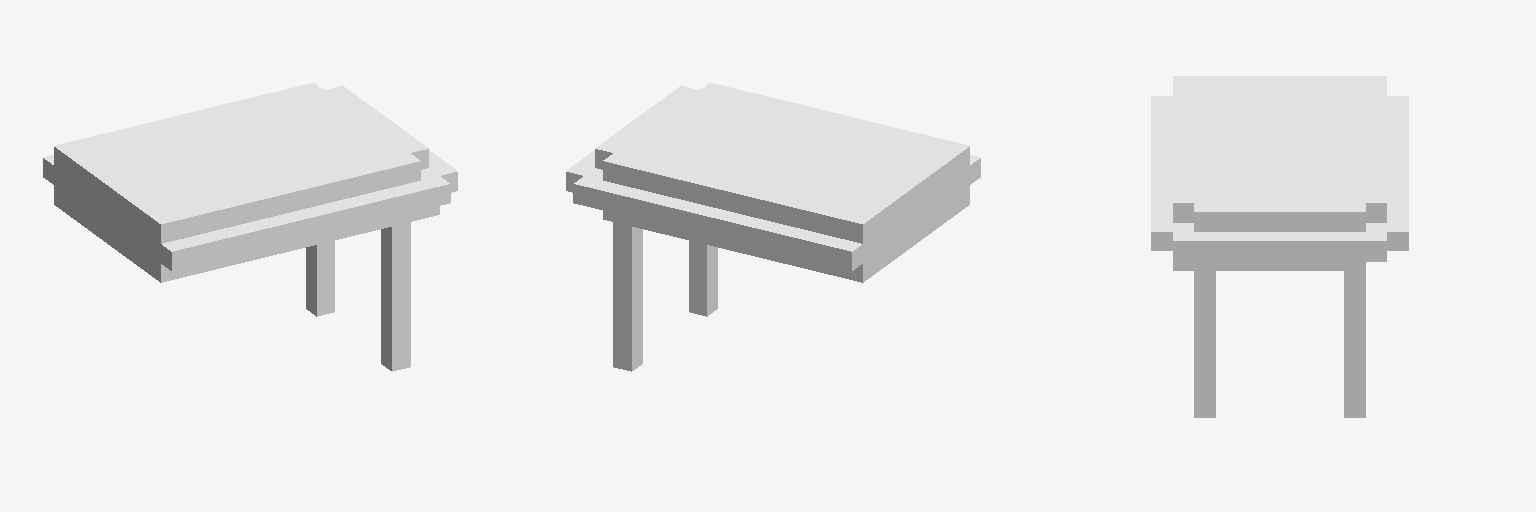
File: Interior_Furniture_Table_Piece_Long_Type02_03.obj
The picture shows the model from 3 angles: view 1: azimuth 30°, elevation 25°; view 2: azimuth 150°, elevation 25°; view 3: azimuth 270°, elevation 25°; orthographic projection.
Visible parts, largest first — view 1: object 1; view 2: object 1; view 3: object 1.
Part boxes in pixels (x1,y1,x2,y2): object 1: (43, 83, 457, 371); object 1: (566, 83, 980, 371); object 1: (1151, 76, 1408, 417).
Size of the model in its own units: 1.6 by 1.1 by 1.2.